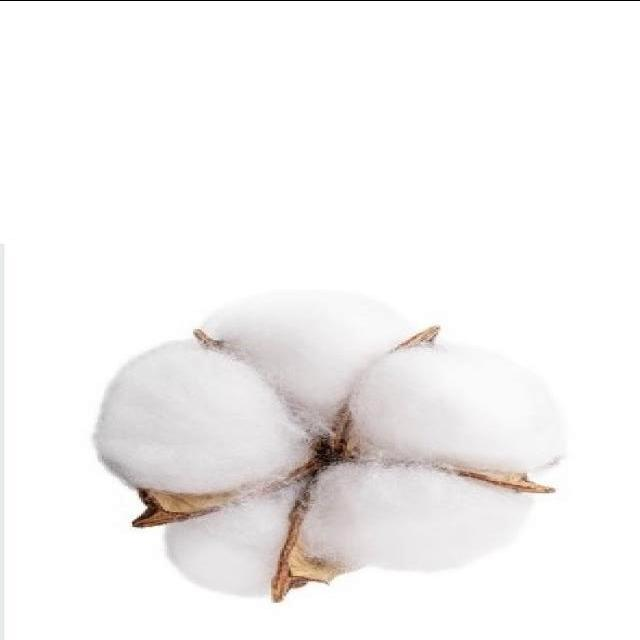Matured Cotton Boll: (92, 283, 572, 599)
